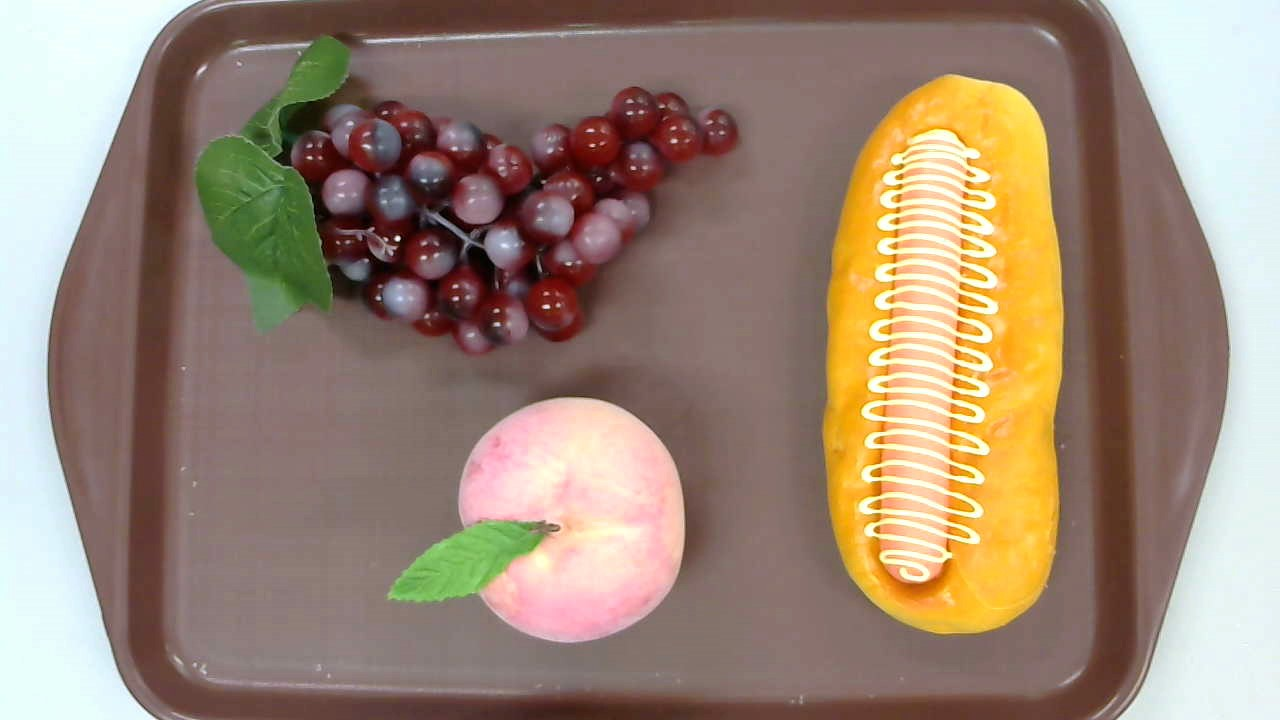grape: (194, 34, 741, 359)
hot dog: (821, 74, 1064, 635)
peach: (385, 397, 687, 644)
